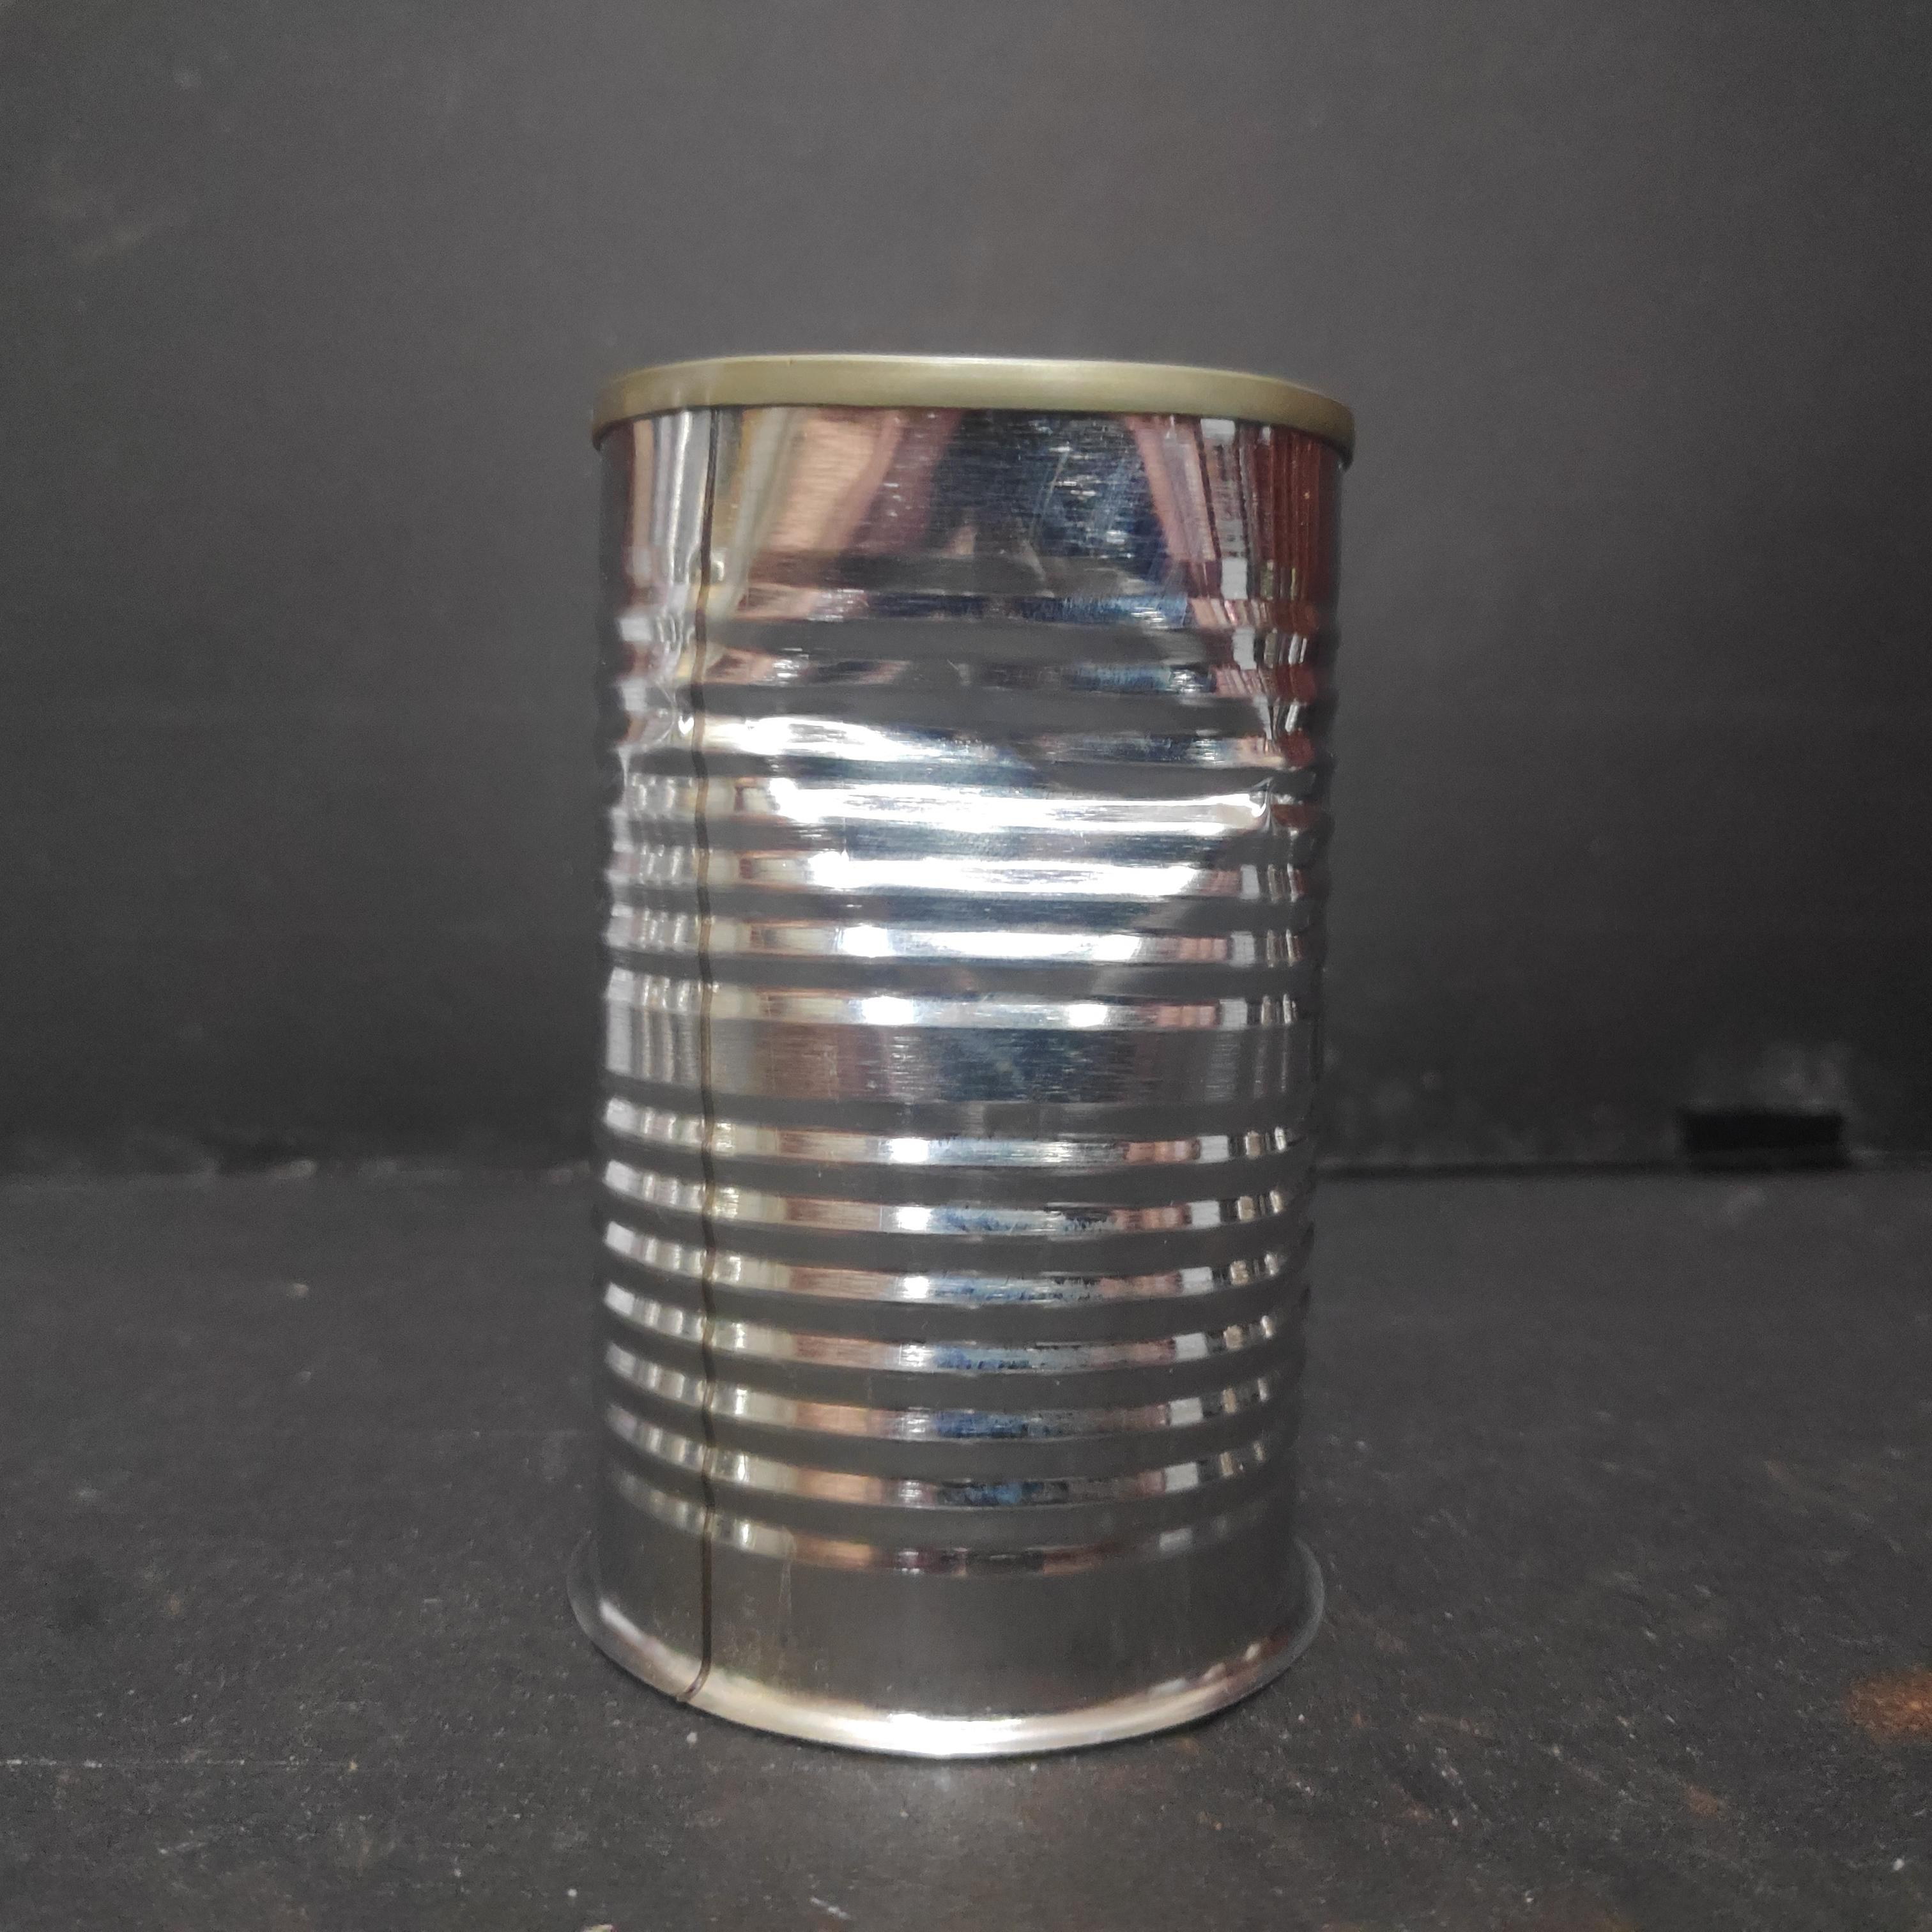Minor Defect: (573, 333, 1355, 1766)
